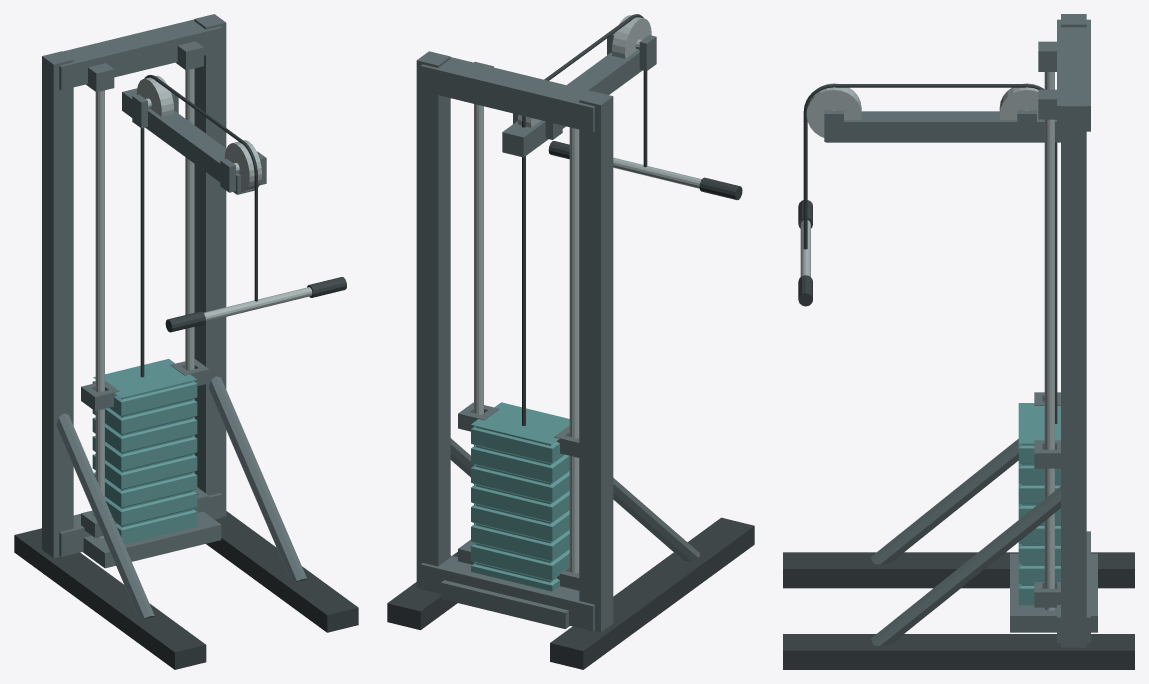
The picture shows the model from 3 angles, left to right: view 1: azimuth 30°, elevation 25°; view 2: azimuth 150°, elevation 25°; view 3: azimuth 270°, elevation 25°; orthographic projection. The views are drawn at different scales.
Parts seen in each view (by area): view 1: WholeGroovedFixedWeightCassette, WholeRearFrameUpright-1, WholeRearFrameUpright1, WholeLongGroundFoot-1, WholeLongGroundFoot1, WholeFrameCrossTieTop, WholeVerticalGuideRod-1, WholeLowerDiagonal1, WholeLowerDiagonal-1, WholeForwardOverheadArm, WholeWeightBaseSeat, WholeVerticalGuideRod1 (+11 smaller); view 2: WholeRearFrameUpright-1, WholeRearFrameUpright1, WholeGroovedFixedWeightCassette, WholeLongGroundFoot-1, WholeFrameCrossTieTop, WholeVerticalGuideRod-1, WholeFrameCrossTieBottom, WholeVerticalGuideRod1, WholeForwardOverheadArm, WholeWeightBaseSeat, WholeContinuousFixedPullCable, WholeLongGroundFoot1 (+6 smaller); view 3: WholeRearFrameUpright1, WholeLongGroundFoot1, WholeLongGroundFoot-1, WholeForwardOverheadArm, WholeGroovedFixedWeightCassette, WholeVerticalGuideRod1, WholeLowerDiagonal1, WholeLowerDiagonal-1, WholeFrameCrossTieTop, WholeContinuousFixedPullCable, WholeWeightBaseSeat, WholeUpperPulleyFront (+9 smaller).
Part boxes in pixels (box(x1,y1,x2,y2)): WholeGroovedFixedWeightCassette: box(92, 359, 197, 544); WholeRearFrameUpright-1: box(42, 51, 73, 557); WholeRearFrameUpright1: box(194, 14, 226, 516); WholeLongGroundFoot-1: box(14, 528, 206, 669); WholeLongGroundFoot1: box(206, 511, 358, 632); WholeFrameCrossTieTop: box(59, 19, 222, 90); WholeVerticalGuideRod-1: box(95, 90, 104, 538); WholeLowerDiagonal1: box(209, 376, 307, 582); WholeLowerDiagonal-1: box(56, 413, 154, 619); WholeForwardOverheadArm: box(122, 88, 254, 194); WholeWeightBaseSeat: box(83, 511, 221, 568); WholeVerticalGuideRod1: box(185, 68, 194, 491); WholeRearFrameUpright-1: box(579, 91, 613, 632); WholeRearFrameUpright1: box(416, 51, 450, 588); WholeGroovedFixedWeightCassette: box(471, 402, 569, 591); WholeLongGroundFoot-1: box(550, 517, 754, 669); WholeFrameCrossTieTop: box(420, 57, 594, 132); WholeVerticalGuideRod-1: box(569, 127, 579, 573); WholeFrameCrossTieBottom: box(420, 555, 594, 631); WholeVerticalGuideRod1: box(474, 104, 483, 543); WholeForwardOverheadArm: box(502, 50, 642, 157); WholeWeightBaseSeat: box(441, 580, 569, 629); WholeContinuousFixedPullCable: box(522, 14, 647, 425); WholeLongGroundFoot1: box(387, 552, 457, 630); WholeRearFrameUpright1: box(1061, 95, 1086, 647); WholeLongGroundFoot1: box(783, 634, 1134, 669); WholeLongGroundFoot-1: box(783, 552, 1134, 588); WholeForwardOverheadArm: box(825, 111, 1060, 142); WholeGroovedFixedWeightCassette: box(1018, 403, 1060, 605); WholeVerticalGuideRod1: box(1044, 119, 1054, 610); WholeLowerDiagonal1: box(871, 486, 1060, 645); WholeLowerDiagonal-1: box(870, 439, 1018, 564); WholeFrameCrossTieTop: box(1057, 19, 1090, 131); WholeContinuousFixedPullCable: box(803, 84, 1057, 423); WholeWeightBaseSeat: box(1010, 553, 1097, 632); WholeUpperPulleyFront: box(806, 83, 861, 137).
Bounding box in the file's own units: 0.82 × 2.18 × 1.24.
